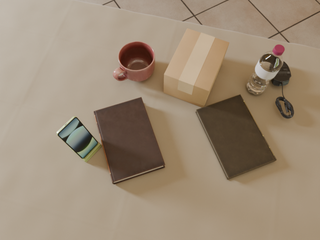book: (196, 95, 277, 180), (94, 97, 165, 184)
bottle: (246, 45, 285, 95)
box: (164, 29, 229, 107)
cup: (113, 41, 155, 81)
mouse: (271, 62, 291, 86)
phone: (57, 116, 98, 158)
